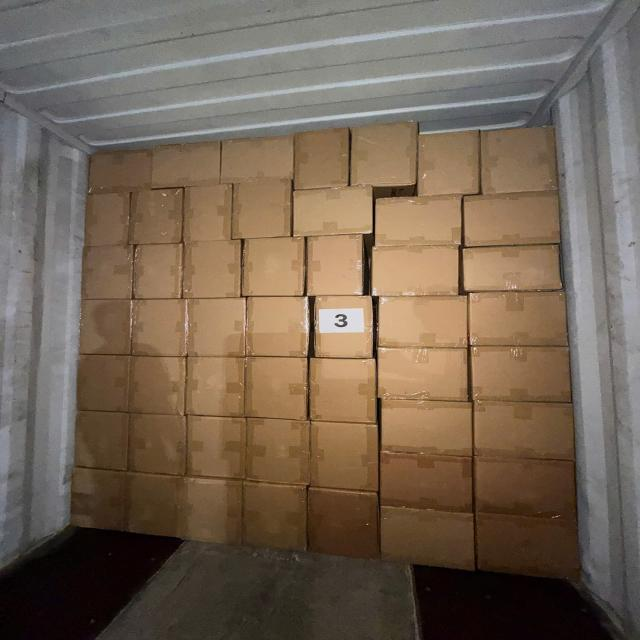Carton: (477, 462, 582, 587), (474, 399, 579, 461), (381, 508, 476, 574), (472, 344, 576, 403), (381, 452, 476, 514), (380, 396, 474, 456), (468, 294, 568, 349), (307, 485, 380, 559), (481, 125, 558, 195), (465, 194, 563, 247), (376, 345, 468, 401), (310, 419, 379, 492), (375, 298, 468, 352), (461, 247, 563, 295), (243, 481, 309, 555), (370, 247, 463, 298), (308, 356, 378, 422), (372, 195, 462, 246), (246, 416, 311, 486), (124, 469, 186, 542), (350, 121, 417, 187), (245, 357, 310, 423), (183, 476, 243, 546), (246, 297, 312, 360), (418, 129, 480, 196), (185, 413, 247, 479), (312, 298, 375, 362), (291, 188, 372, 237), (243, 237, 307, 298), (68, 468, 125, 535), (186, 298, 248, 359), (184, 354, 245, 416), (232, 180, 294, 240), (308, 235, 367, 298), (130, 412, 188, 476), (182, 242, 242, 302), (292, 126, 348, 190), (130, 353, 188, 414), (153, 137, 222, 187), (129, 299, 185, 359), (223, 134, 296, 180), (76, 410, 131, 471), (78, 354, 132, 414), (81, 300, 134, 359), (130, 188, 184, 245), (134, 244, 184, 302), (85, 247, 136, 303), (184, 186, 234, 243), (89, 149, 153, 191), (84, 192, 129, 246)
